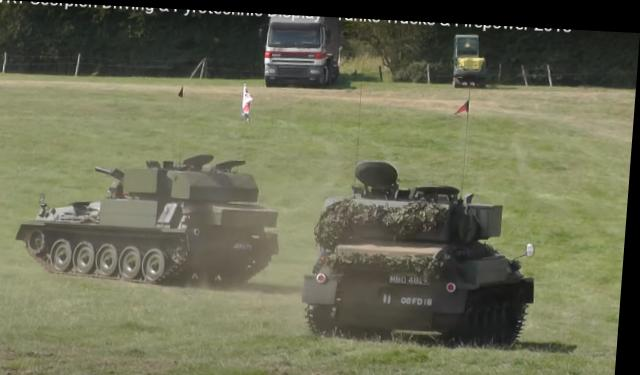tank: (314, 169, 535, 348), (37, 176, 278, 275)
